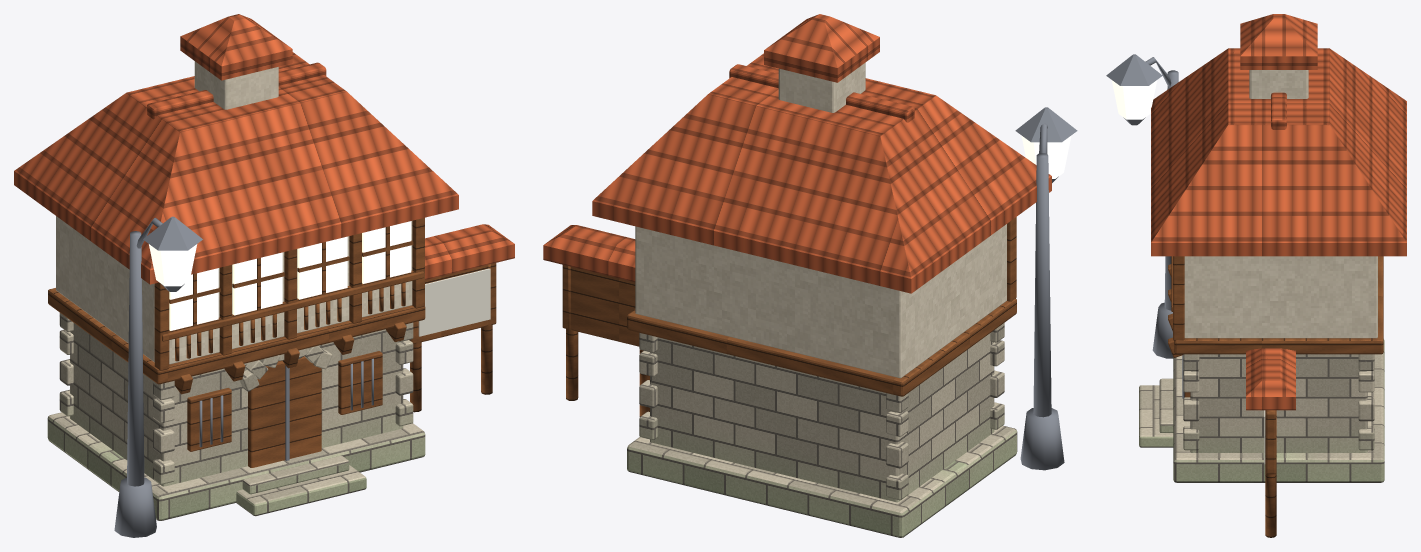
The model's file is map1.glb.
3 views of the same model, side by side, from view 1: azimuth 30°, elevation 25°; view 2: azimuth 150°, elevation 25°; view 3: azimuth 270°, elevation 25° (orthographic). The views are drawn at different scales.
Visible parts, largest first — view 1: Batch_TisaRoof, Batch_Stone, Batch_Hardwood, Batch_Plaster, Batch_CapizGlow, Batch_WroughtIron, Batch_Parchment; view 2: Batch_TisaRoof, Batch_Stone, Batch_Plaster, Batch_Hardwood, Batch_WroughtIron, Batch_CapizGlow; view 3: Batch_TisaRoof, Batch_Stone, Batch_Plaster, Batch_Hardwood, Batch_WroughtIron, Batch_CapizGlow.
Boxes of the visible parts, x1,y1,x2,y2 form: Batch_TisaRoof: (14, 14, 514, 284); Batch_Stone: (47, 313, 425, 520); Batch_Hardwood: (48, 217, 496, 467); Batch_Plaster: (56, 61, 412, 364); Batch_CapizGlow: (149, 221, 411, 330); Batch_WroughtIron: (114, 216, 373, 537); Batch_Parchment: (418, 268, 490, 336); Batch_TisaRoof: (543, 14, 1051, 293); Batch_Stone: (627, 323, 1017, 537); Batch_Plaster: (635, 62, 1006, 378); Batch_Hardwood: (562, 217, 1016, 416); Batch_WroughtIron: (1015, 107, 1077, 470); Batch_CapizGlow: (1021, 135, 1071, 178); Batch_TisaRoof: (1151, 14, 1406, 410); Batch_Stone: (1139, 339, 1384, 482); Batch_Plaster: (1184, 70, 1377, 338); Batch_Hardwood: (1168, 256, 1383, 537); Batch_WroughtIron: (1106, 54, 1184, 398); Batch_CapizGlow: (1111, 80, 1157, 119).
Size of the model in its own units: 4.16 by 3.94 by 2.65.
7 materials, 4 textured.
